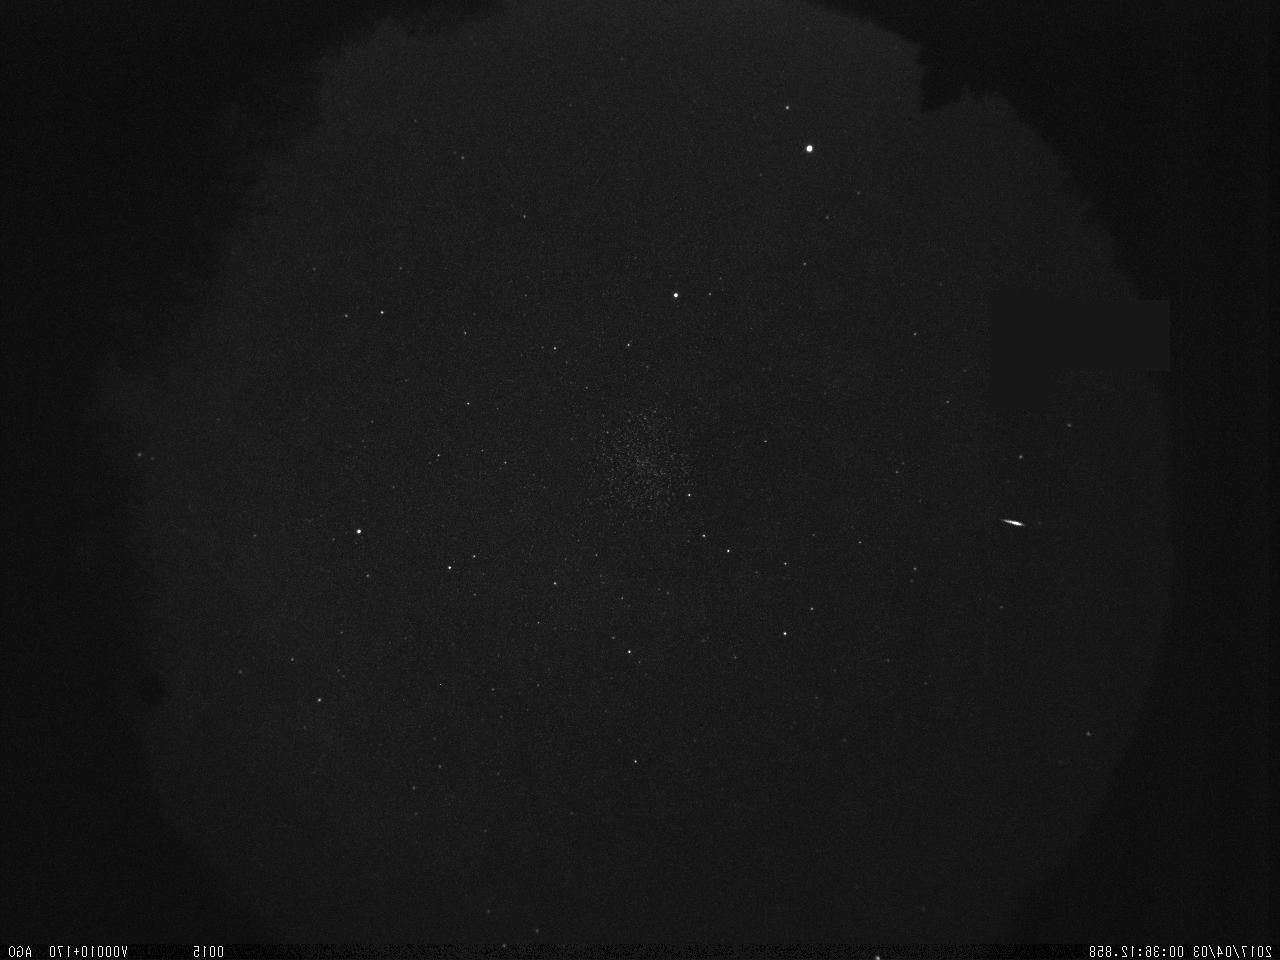meteor: (994, 513, 1033, 531)
